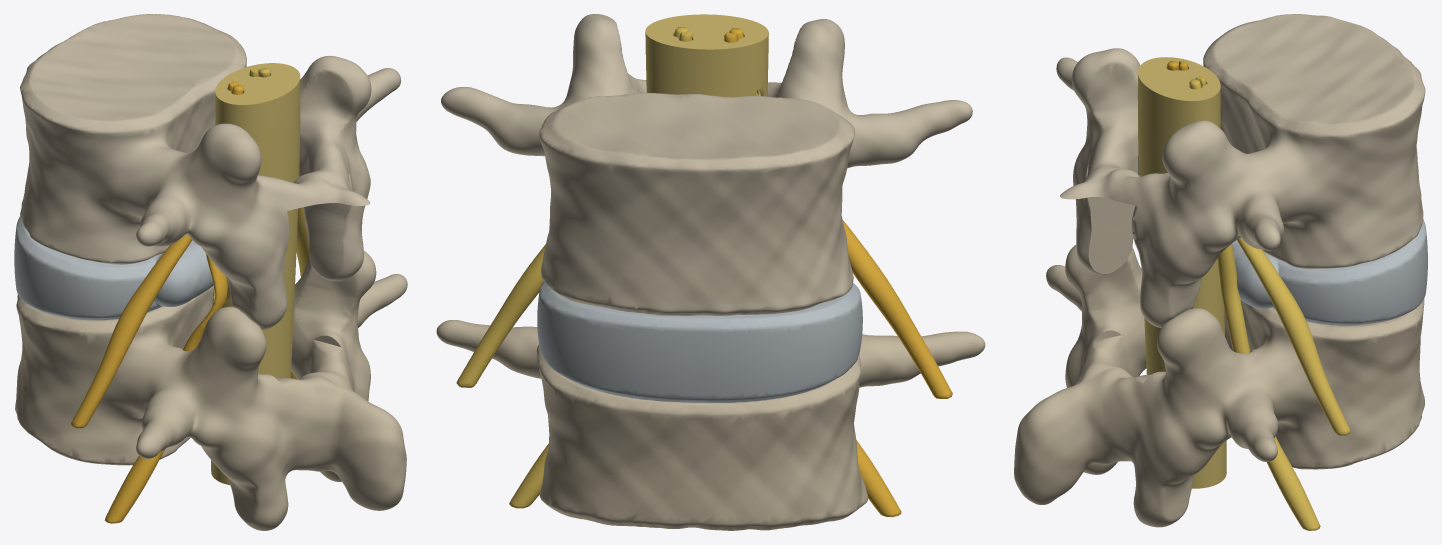
File: spine_laminectomy.glb
3 renders of one model, left to right at view 1: azimuth 30°, elevation 25°; view 2: azimuth 150°, elevation 25°; view 3: azimuth 270°, elevation 25°, orthographic. The views are drawn at different scales.
Parts seen in each view (by area): view 1: l4_vertebra, l5_vertebra, annulus_fibrosus, thecal_sac, l4_nerve_root_left, l5_nerve_root_left, nerve_roots; view 2: l4_vertebra, l5_vertebra, annulus_fibrosus, thecal_sac, nerve_roots, l4_nerve_root_left, l5_nerve_root_left; view 3: l4_vertebra, l5_vertebra, annulus_fibrosus, thecal_sac, nerve_roots.
Part boxes in pixels (bbox=[...]): l4_vertebra: bbox=[20, 14, 401, 330]; l5_vertebra: bbox=[15, 250, 407, 530]; annulus_fibrosus: bbox=[14, 216, 213, 320]; thecal_sac: bbox=[211, 63, 300, 484]; l4_nerve_root_left: bbox=[71, 85, 243, 428]; l5_nerve_root_left: bbox=[104, 81, 238, 523]; nerve_roots: bbox=[249, 67, 309, 379]; l4_vertebra: bbox=[441, 14, 972, 315]; l5_vertebra: bbox=[436, 320, 985, 530]; annulus_fibrosus: bbox=[537, 281, 862, 402]; thecal_sac: bbox=[645, 14, 768, 97]; nerve_roots: bbox=[456, 27, 692, 508]; l4_nerve_root_left: bbox=[729, 28, 952, 398]; l5_nerve_root_left: bbox=[724, 32, 901, 517]; l4_vertebra: bbox=[1056, 14, 1425, 327]; l5_vertebra: bbox=[1014, 245, 1424, 527]; annulus_fibrosus: bbox=[1232, 218, 1427, 325]; thecal_sac: bbox=[1137, 57, 1226, 488]; nerve_roots: bbox=[1189, 76, 1350, 530].
Size of the model in its own units: 7.95 by 7.92 by 7.13.
